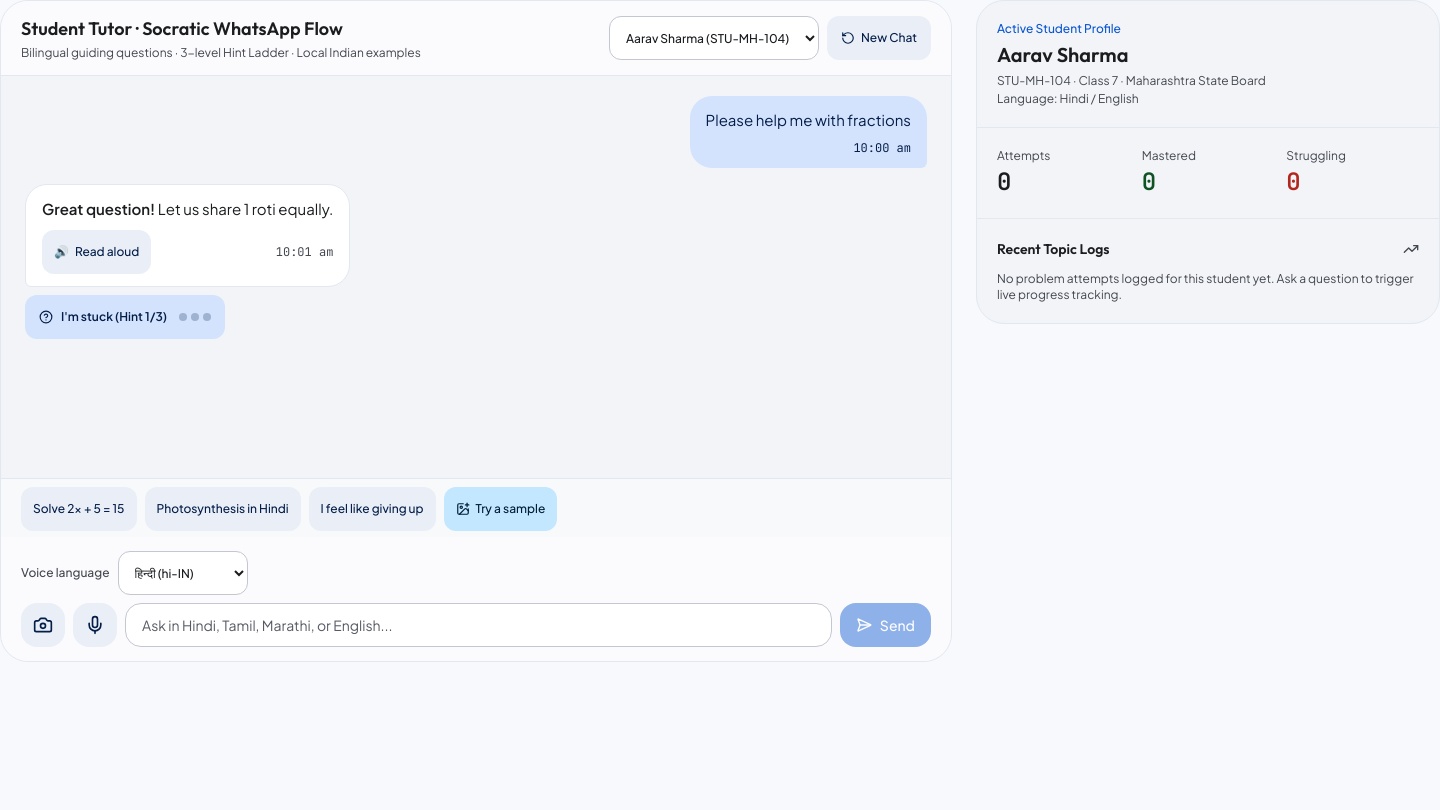
Test case: Shiksha-Agent React components › streams live Web Speech API transcript into composer and reads tutor replies aloud in the selected language
This screenshot has width=1440, height=810.
// Select Tamil (ta-IN) and click mic button
Select "தமிழ் (ta-IN)" in the dropdown labelled "Voice language". click: (182, 573)
box: left=118, top=551, right=248, bottom=595
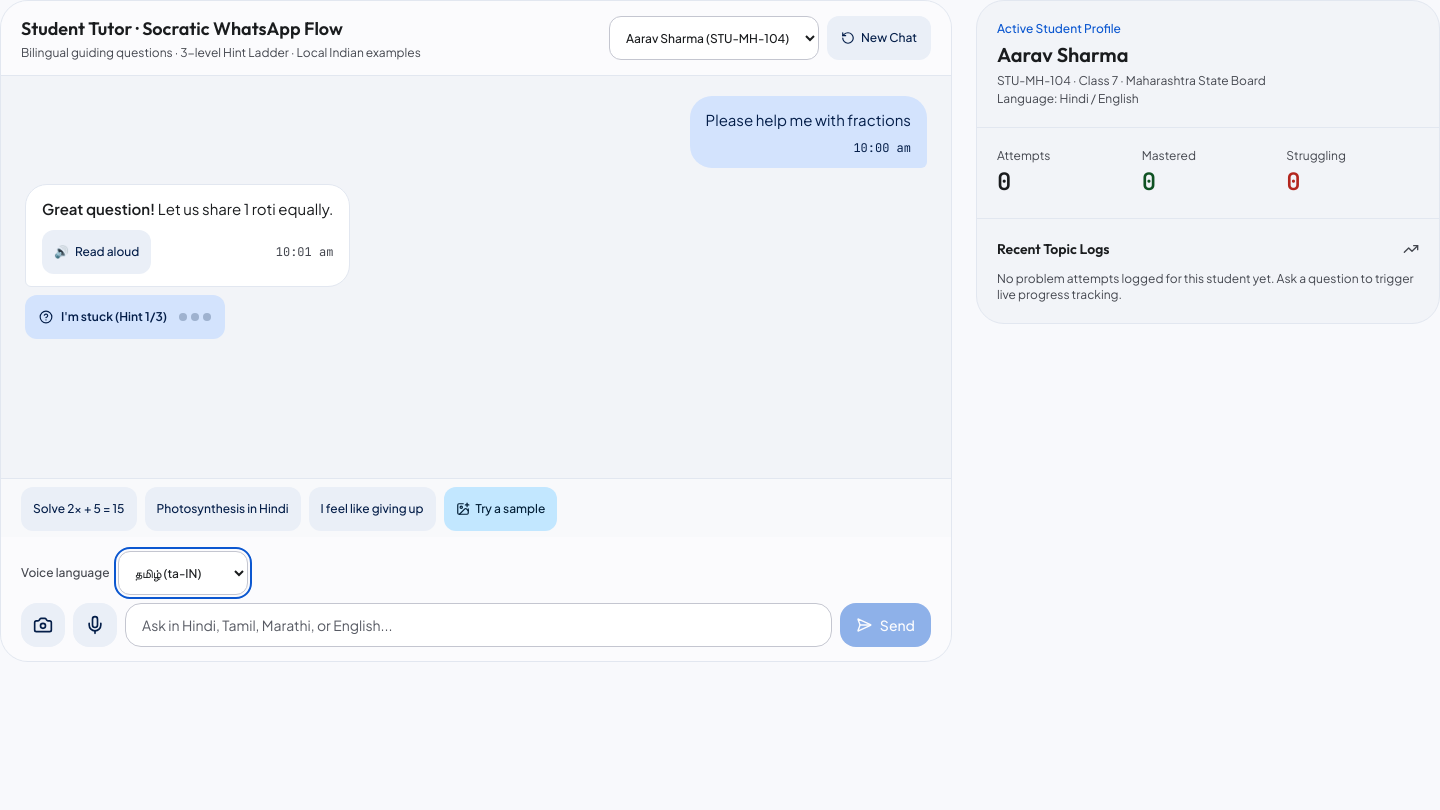
Click the button named "Start voice input". click: (95, 625)
box: left=73, top=603, right=117, bottom=647
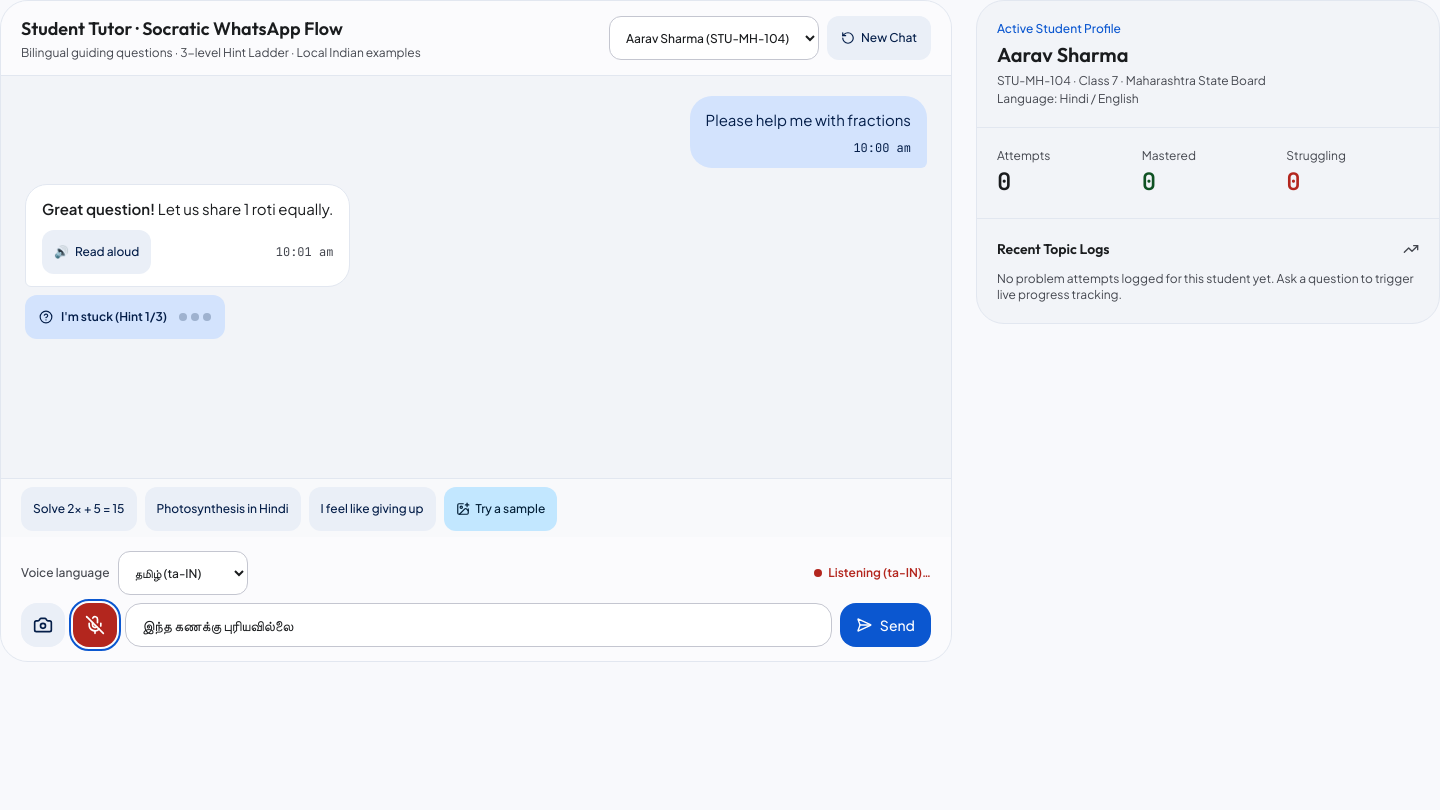
Expected: the text "Listening (ta-IN)…" is shown, left=828, top=565, right=931, bottom=581
Expected: the field named "Ask a question in Hindi, Tamil, Marathi, or English" holds "இந்த கணக்கு புரியவில்லை", left=125, top=603, right=832, bottom=647
// Stop listening
Click the button named "Stop voice input". click: (95, 625)
box: left=73, top=603, right=117, bottom=647
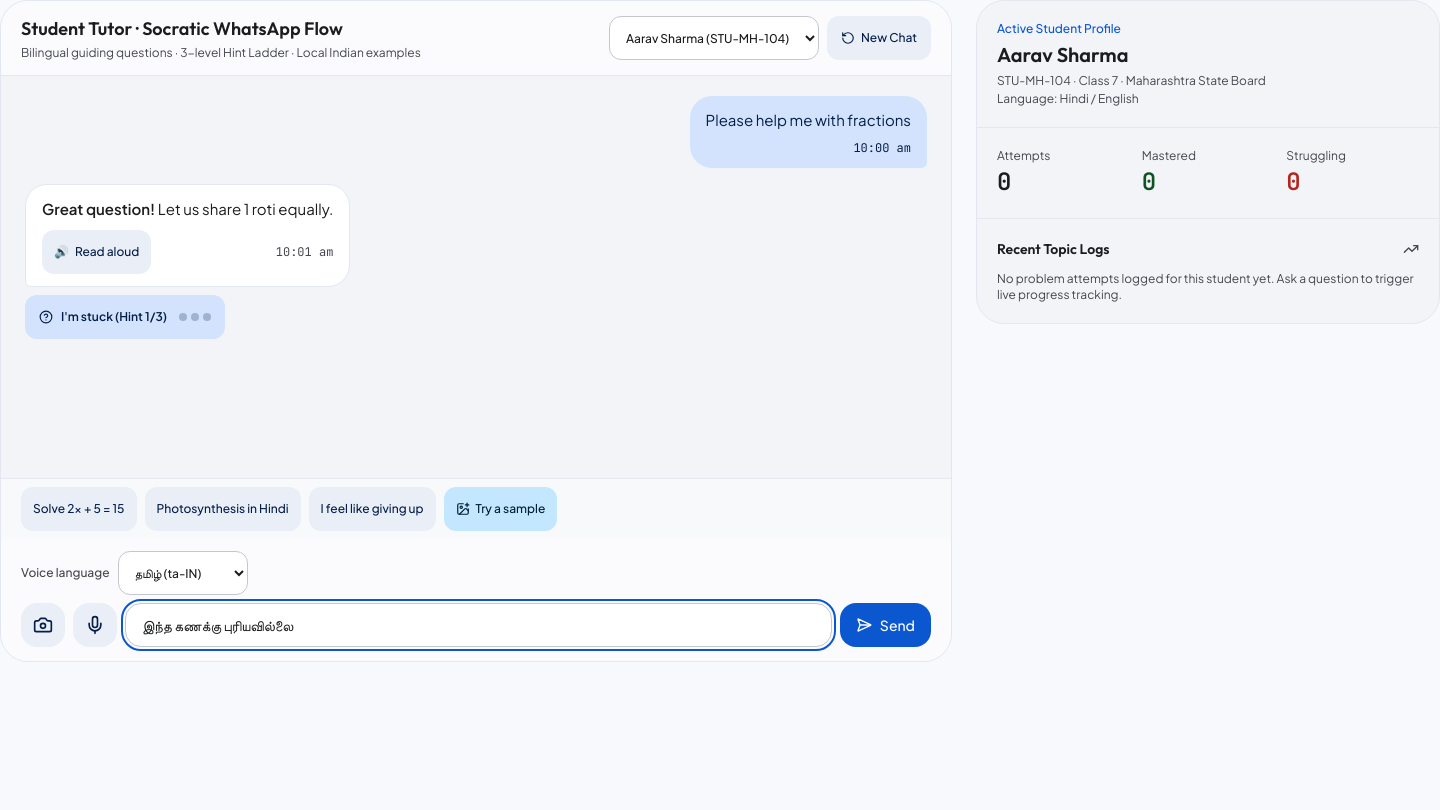
// Switch to Marathi (mr-IN) and click Read aloud on tutor reply (only 1 button for assistant msg)
Select "मराठी (mr-IN)" in the dropdown labelled "Voice language". click: (182, 573)
box: left=118, top=551, right=248, bottom=595
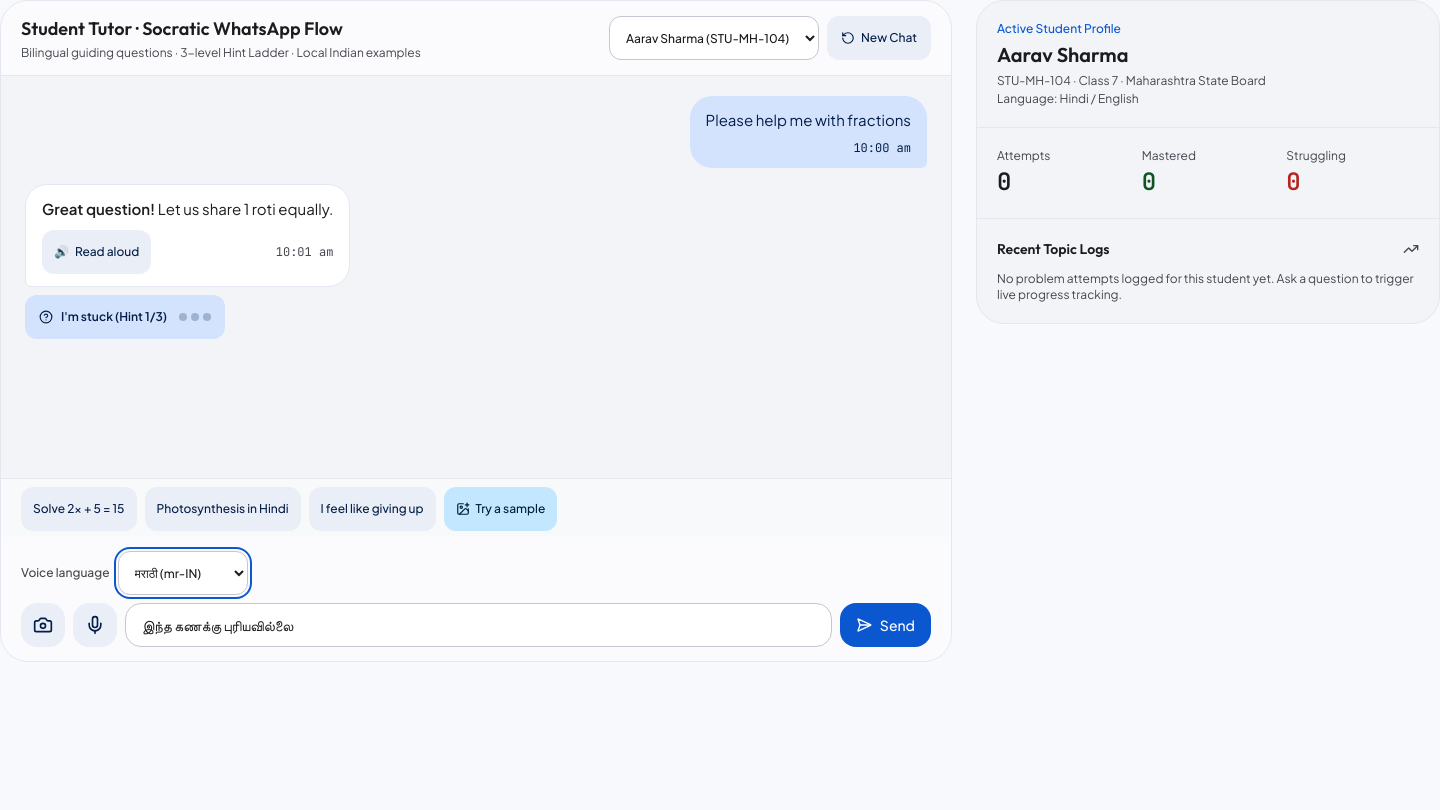
Click the button with aria-label "Read tutor reply aloud". click: (97, 252)
box: left=42, top=230, right=151, bottom=274
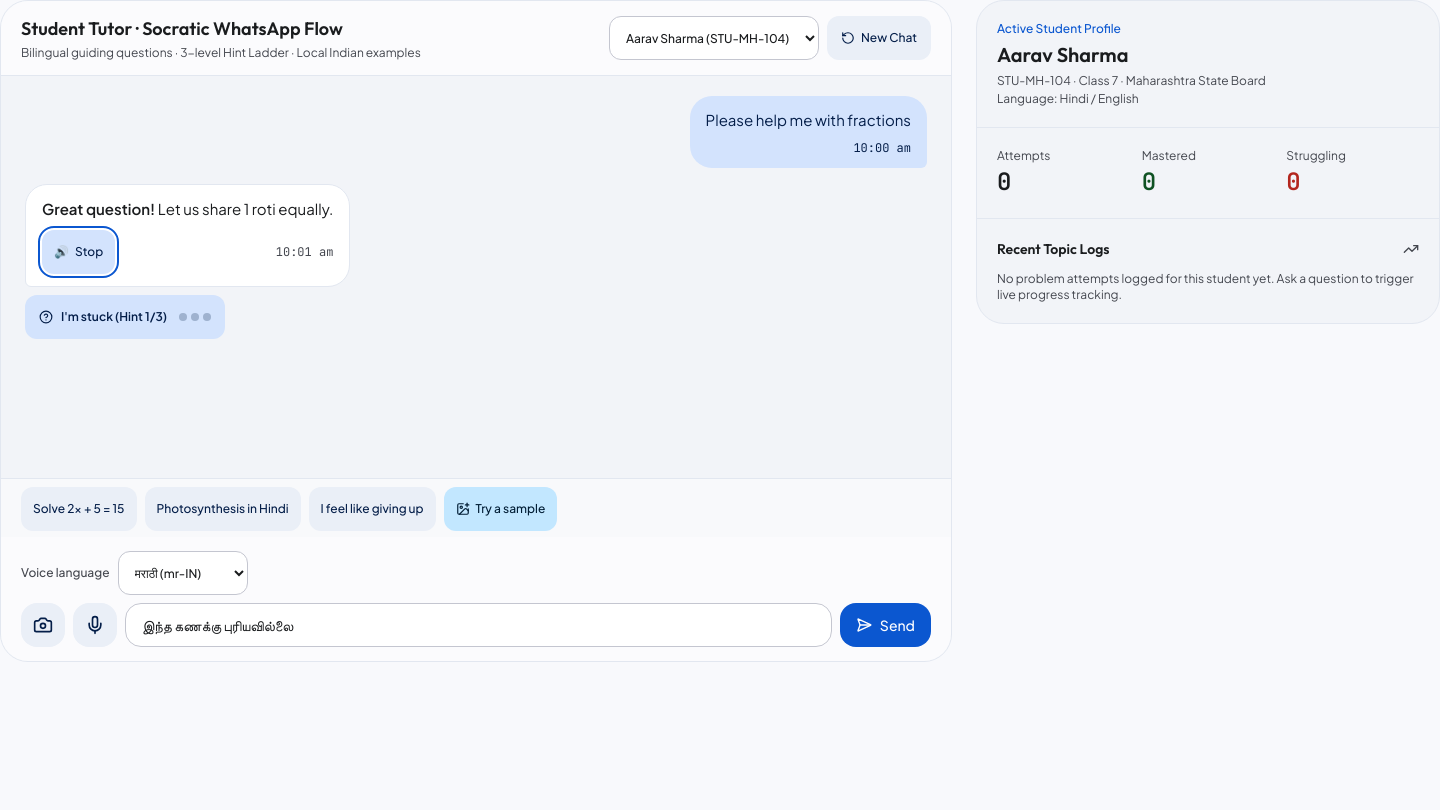
Expected: the element showing "Great question! Let us share 1 roti equally." is shown, left=42, top=197, right=333, bottom=222
Expected: the button with aria-label "Stop reading tutor reply aloud" is pressed
Click the button with aria-label "Stop reading tutor reply aloud". click: (79, 252)
box: left=42, top=230, right=115, bottom=274
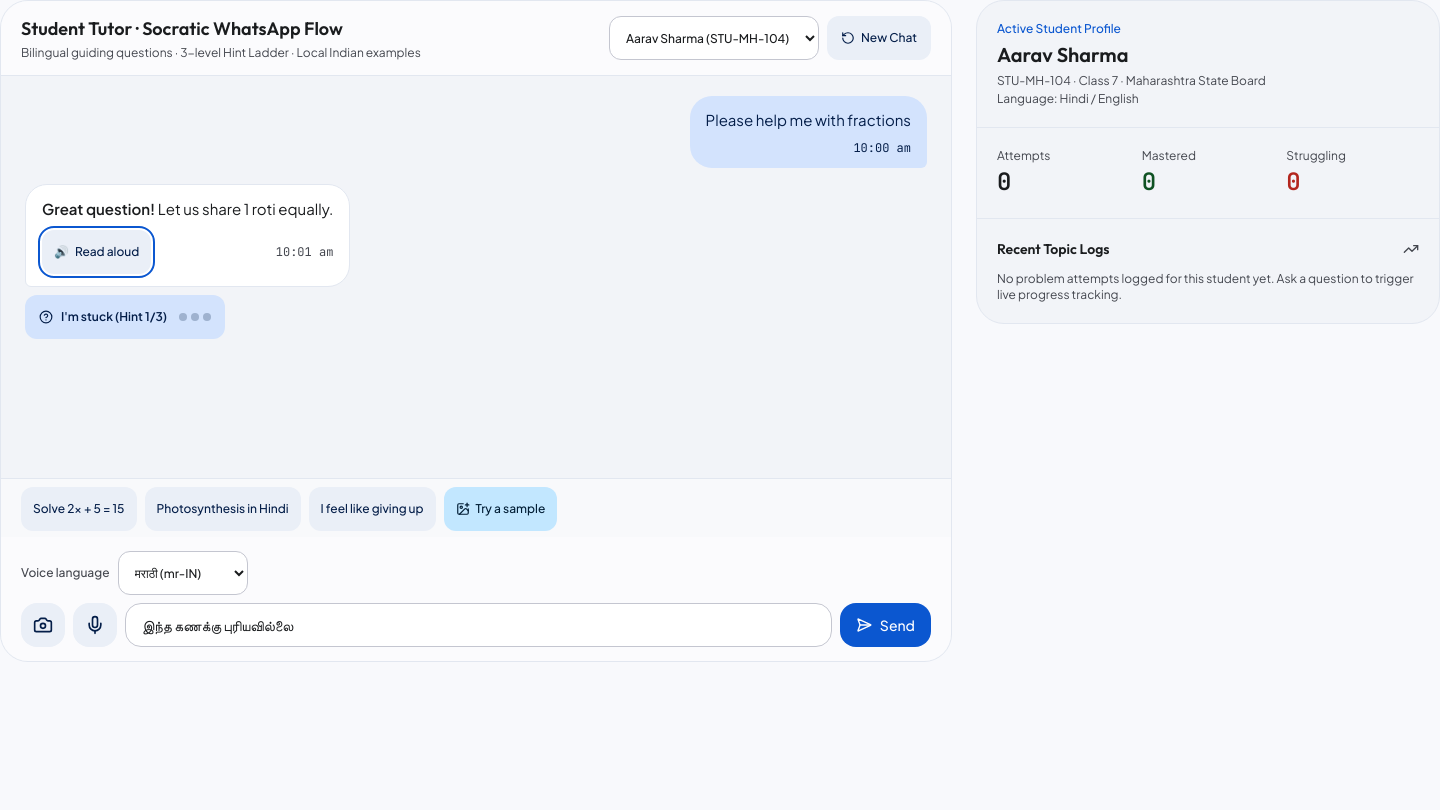
Expected: the button with aria-label "Read tutor reply aloud" is not pressed, left=42, top=230, right=151, bottom=274
